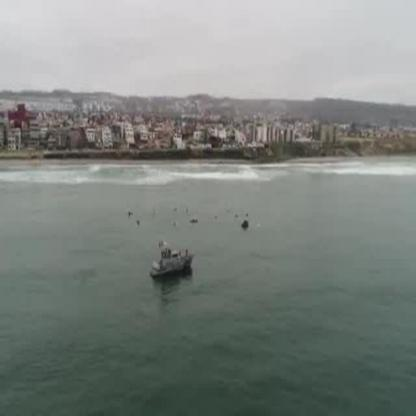Boat: (147, 244, 195, 282)
